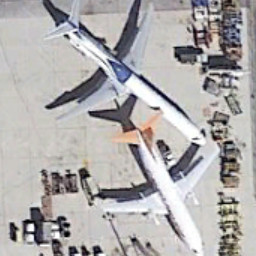Airplane: (23, 1, 215, 149), (100, 109, 228, 256)
